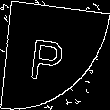P_N: (36, 27, 74, 83)
